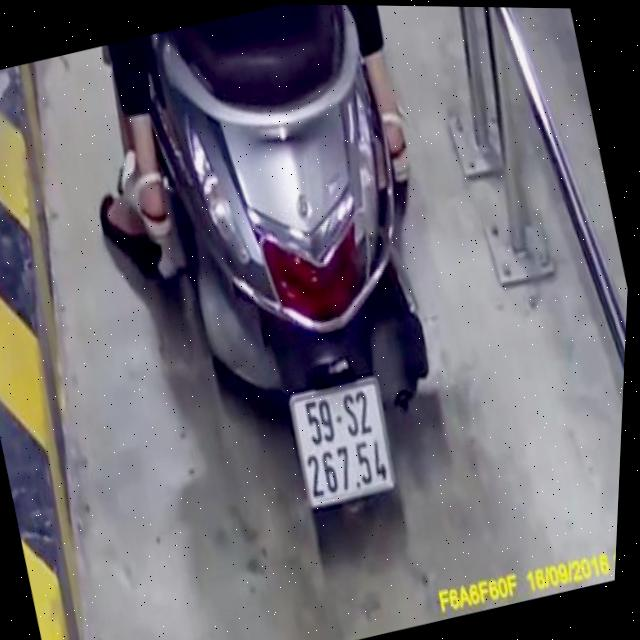motorcycle: (102, 2, 511, 592)
plate: (276, 365, 404, 512)
